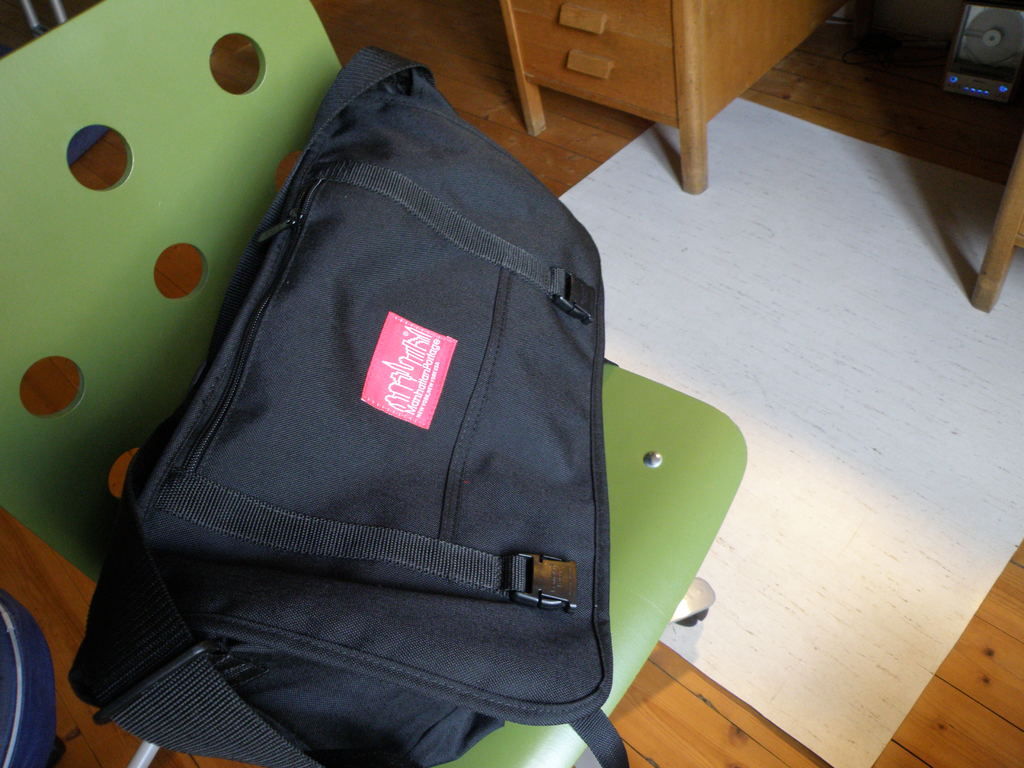cabinet door: (534, 47, 680, 95), (523, 0, 647, 32)
handle: (563, 44, 616, 81), (558, 3, 611, 32)
